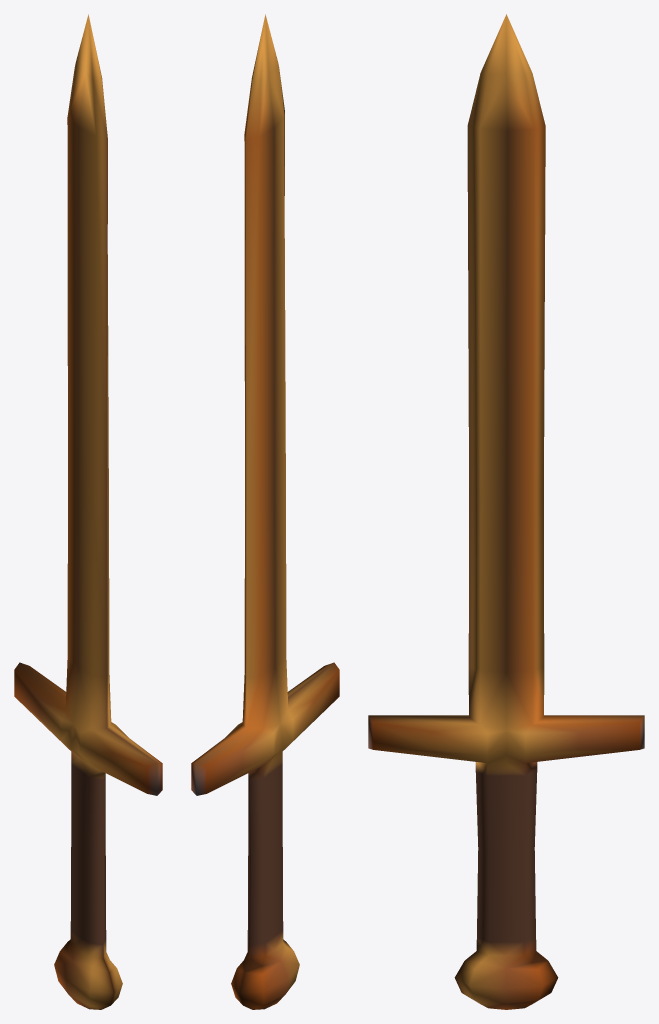
File: BronzeSword.fbx
The picture shows the model from 3 angles, left to right: view 1: azimuth 30°, elevation 25°; view 2: azimuth 150°, elevation 25°; view 3: azimuth 270°, elevation 25°; orthographic projection.
Visible parts, largest first — view 1: Plane.015; view 2: Plane.015; view 3: Plane.015.
Boxes of the visible parts, box(x1,y1,x2,y2) form: Plane.015: box(14, 14, 162, 1009); Plane.015: box(191, 14, 339, 1009); Plane.015: box(368, 14, 644, 1009).
Size of the model in its own units: 29.2 by 613 by 154.
